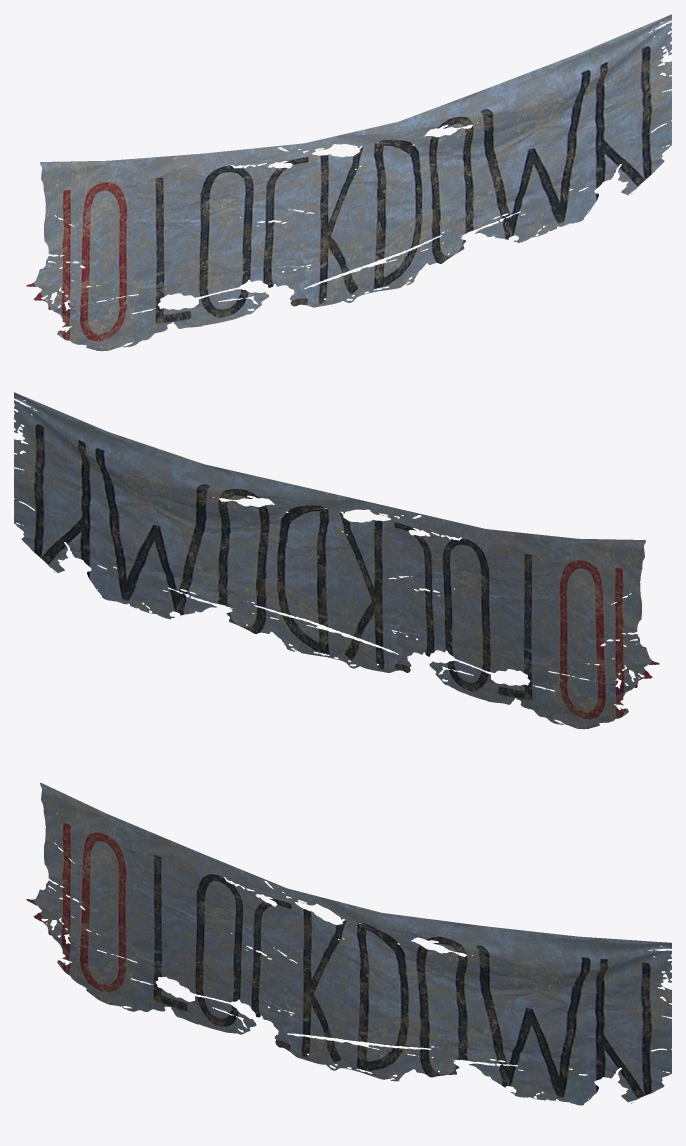
Rendered from Prop_Flag_Lockdown.FBX.
3 renders of one model, top to bottom at view 1: azimuth 30°, elevation 25°; view 2: azimuth 150°, elevation 25°; view 3: azimuth 330°, elevation 25°, orthographic.
Parts seen in each view (by area): view 1: Prop_Flag_Lockdown; view 2: Prop_Flag_Lockdown; view 3: Prop_Flag_Lockdown.
Part boxes in pixels (x1,y1,x2,y2): Prop_Flag_Lockdown: (26,14,671,351); Prop_Flag_Lockdown: (14,392,659,729); Prop_Flag_Lockdown: (26,782,671,1105).
Bounding box in the file's own units: 14.36 × 4.8 × 0.3236.
